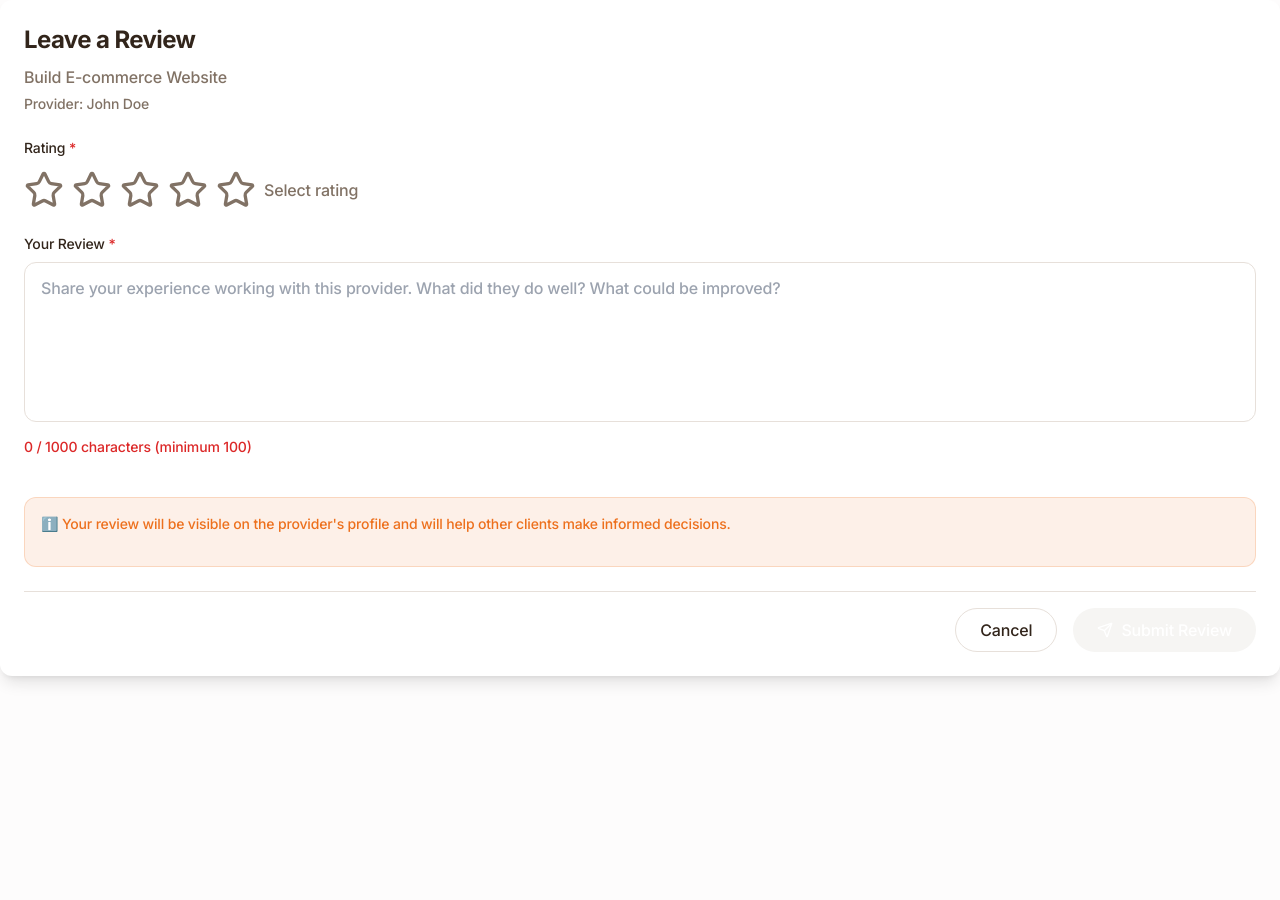
Scenario: ReviewForm › Star Rating › should update rating text when star is clicked
The width and height of the screenshot is (1280, 900).
Click the 3rd button. click: (140,190)
box: [120,170,160,210]
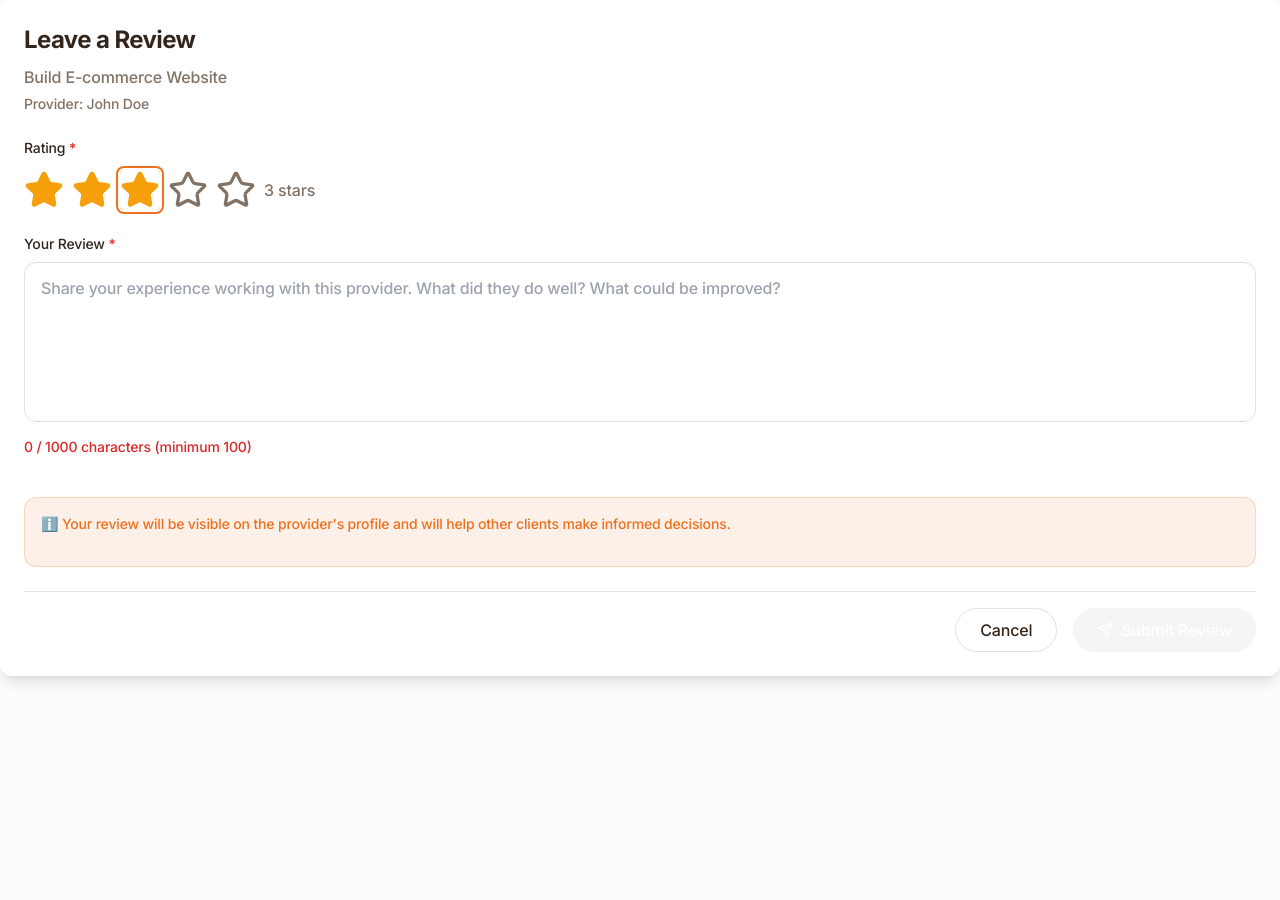
Now the text "3 stars" is shown, box [264,177,315,203]
